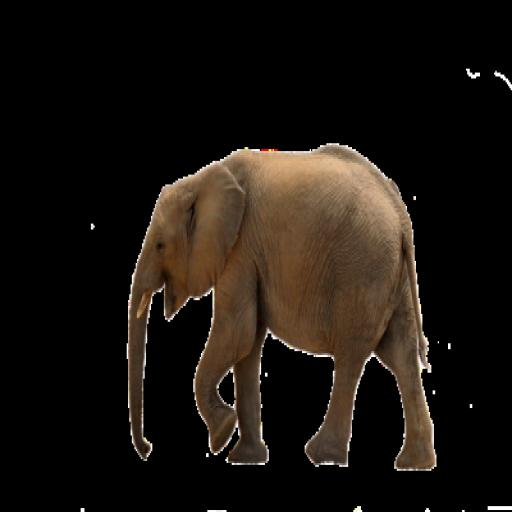Elephant: (112, 94, 471, 494)
